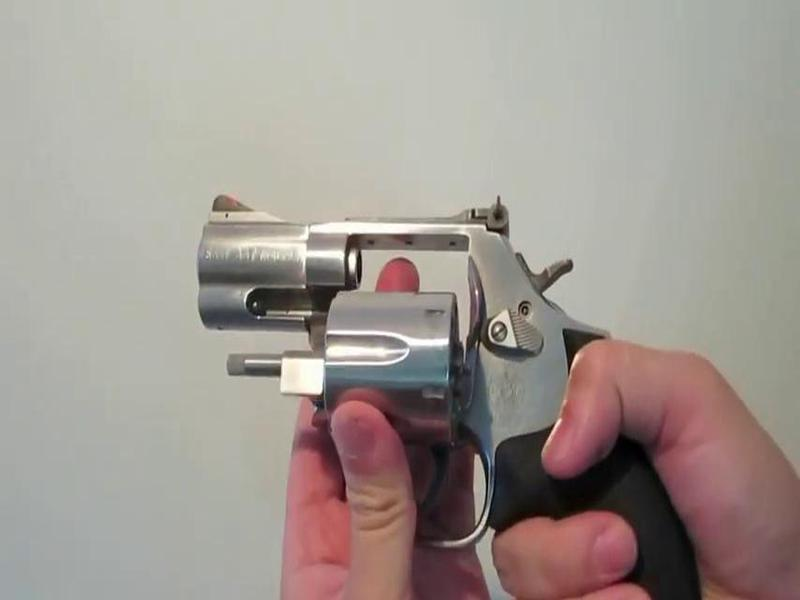Revolver: (180, 168, 696, 600)
